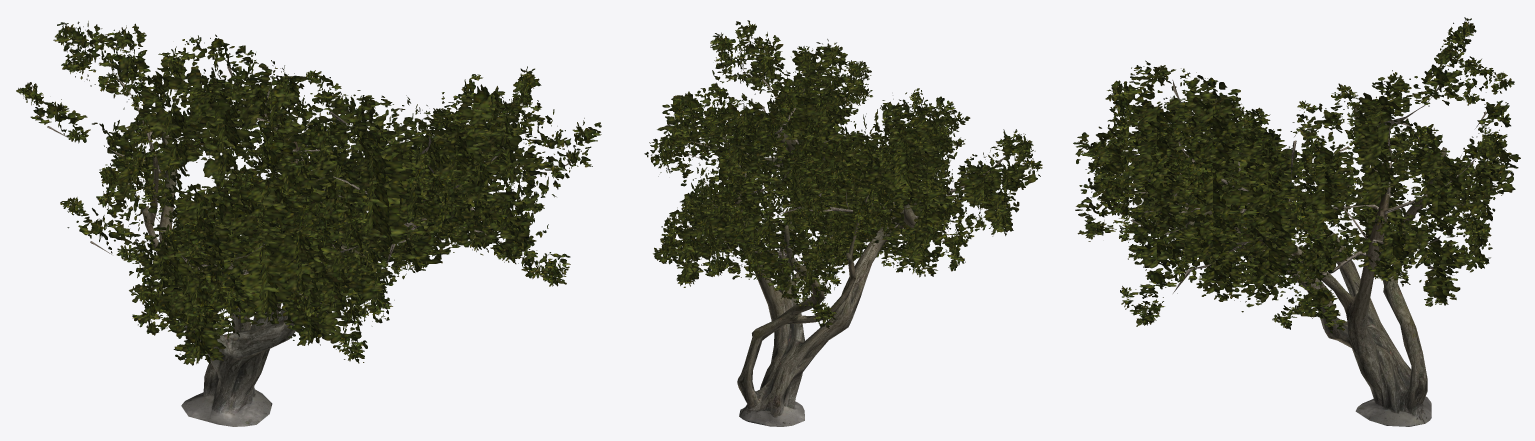
The model's file is island_tree_02-high.glb.
3 renders of one model, left to right at view 1: azimuth 30°, elevation 25°; view 2: azimuth 150°, elevation 25°; view 3: azimuth 270°, elevation 25°, orthographic. The views are drawn at different scales.
Parts seen in each view (by area): view 1: baked-leaf-clusters, island_tree_02_LOD0; view 2: baked-leaf-clusters, island_tree_02_LOD0; view 3: baked-leaf-clusters, island_tree_02_LOD0.
Boxes of the visible parts, left/top/right/bottom form: baked-leaf-clusters: left=16, top=21, right=601, bottom=365; island_tree_02_LOD0: left=47, top=58, right=571, bottom=426; baked-leaf-clusters: left=644, top=20, right=1042, bottom=328; island_tree_02_LOD0: left=667, top=51, right=1005, bottom=426; baked-leaf-clusters: left=1073, top=17, right=1520, bottom=333; island_tree_02_LOD0: left=1095, top=80, right=1498, bottom=426.
Size of the model in its own units: 3.9 by 3.4 by 4.07.
3 materials, 3 textured.
